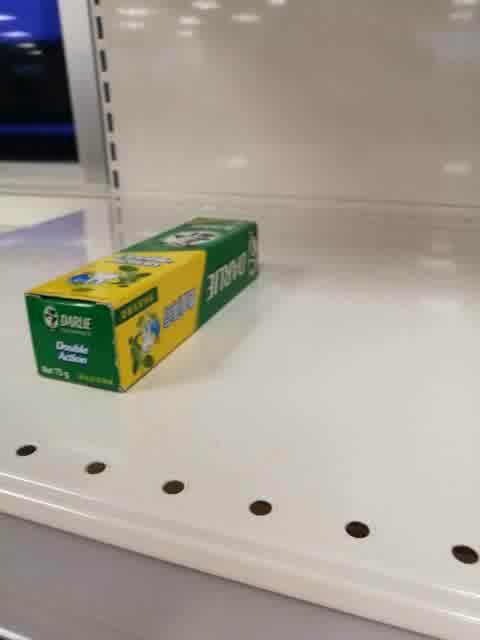toothpaste: (23, 216, 260, 394)
